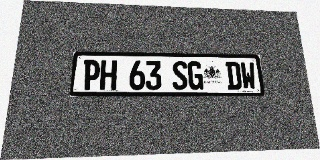3: (146, 61, 161, 90)
6: (129, 60, 145, 90)
D: (225, 62, 242, 90)
G: (187, 61, 204, 90)
H: (99, 60, 117, 90)
P: (82, 60, 100, 90)
S: (172, 61, 188, 90)
W: (240, 62, 257, 90)
